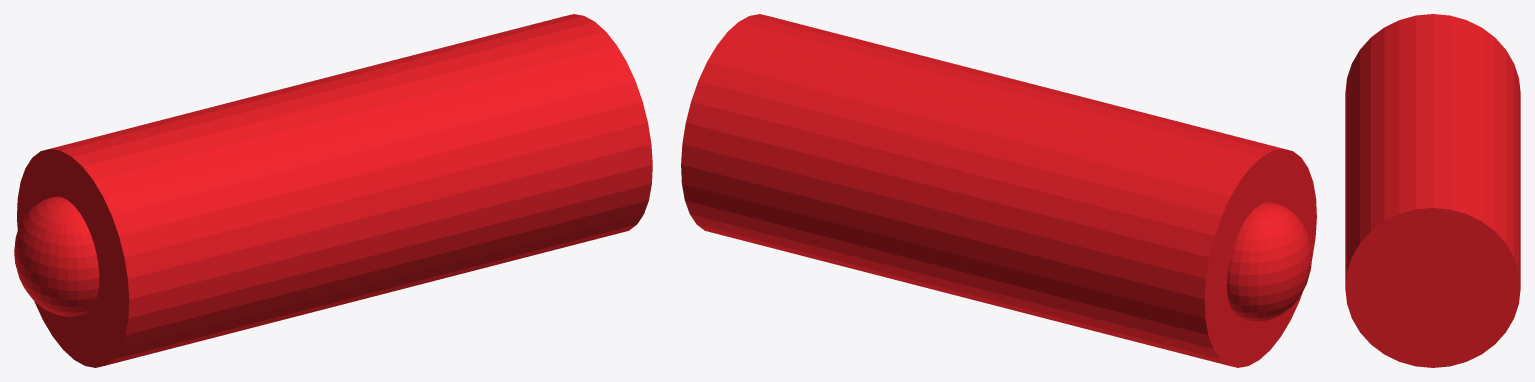
Rendered from cameraenemy.fbx.
3 views of the same model, side by side, from view 1: azimuth 30°, elevation 25°; view 2: azimuth 150°, elevation 25°; view 3: azimuth 270°, elevation 25° (orthographic). The views are drawn at different scales.
Parts seen in each view (by area): view 1: 球; view 2: 球; view 3: 球.
Boxes of the visible parts, bbox=[...] form: 球: bbox=[14, 14, 652, 367]; 球: bbox=[681, 14, 1316, 367]; 球: bbox=[1345, 14, 1520, 367].
Size of the model in its own units: 493 by 174 by 168.
